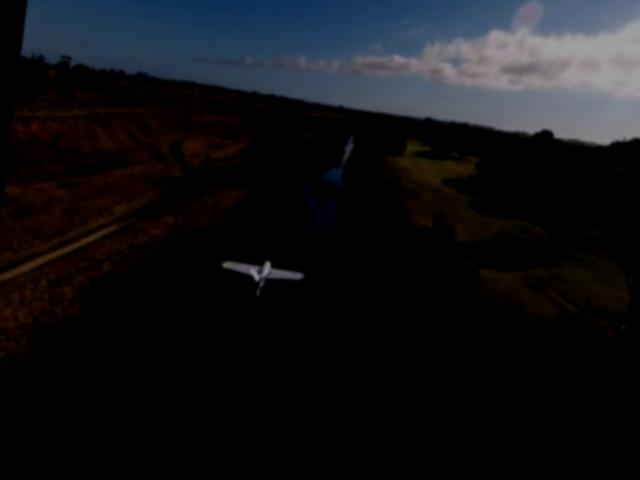uav: (216, 249, 306, 311)
